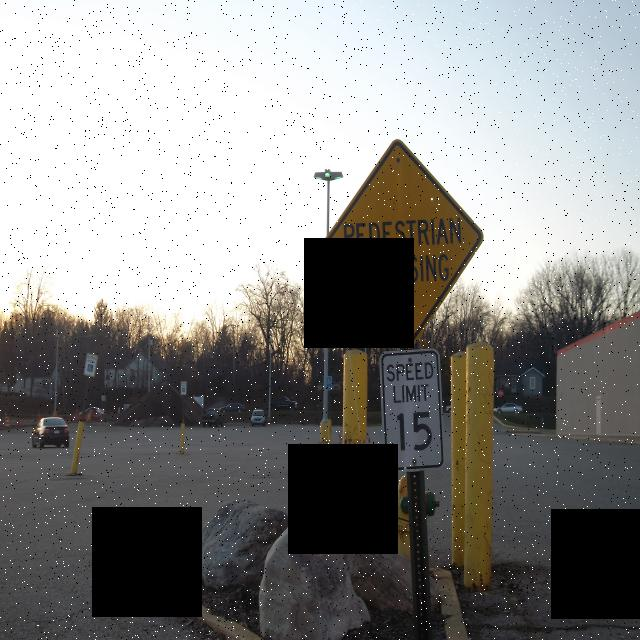regulatory: (379, 346, 446, 476), (82, 352, 99, 380), (178, 378, 189, 397), (100, 393, 108, 402)
warning: (313, 137, 489, 348)
